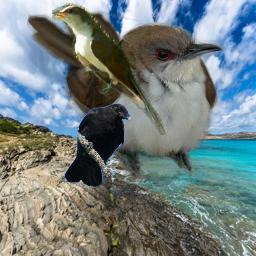Crow: (64, 103, 132, 188)
Cuckoo: (27, 8, 225, 184), (52, 2, 167, 135)
